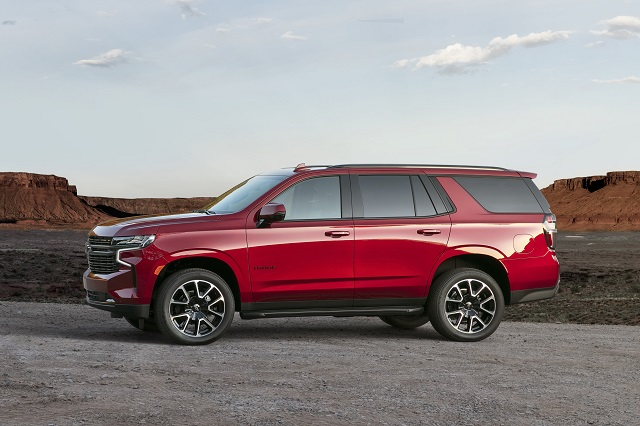car: (82, 161, 560, 344)
